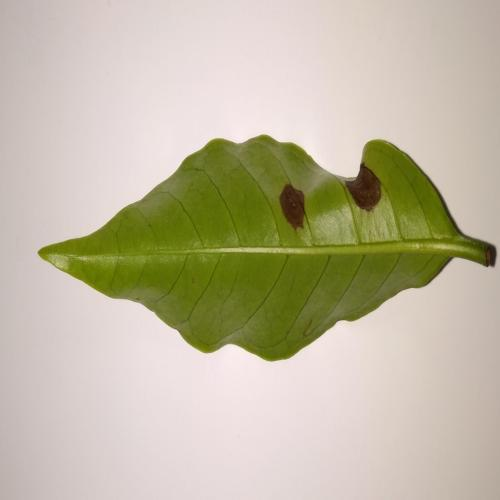miner: (344, 162, 382, 213)
